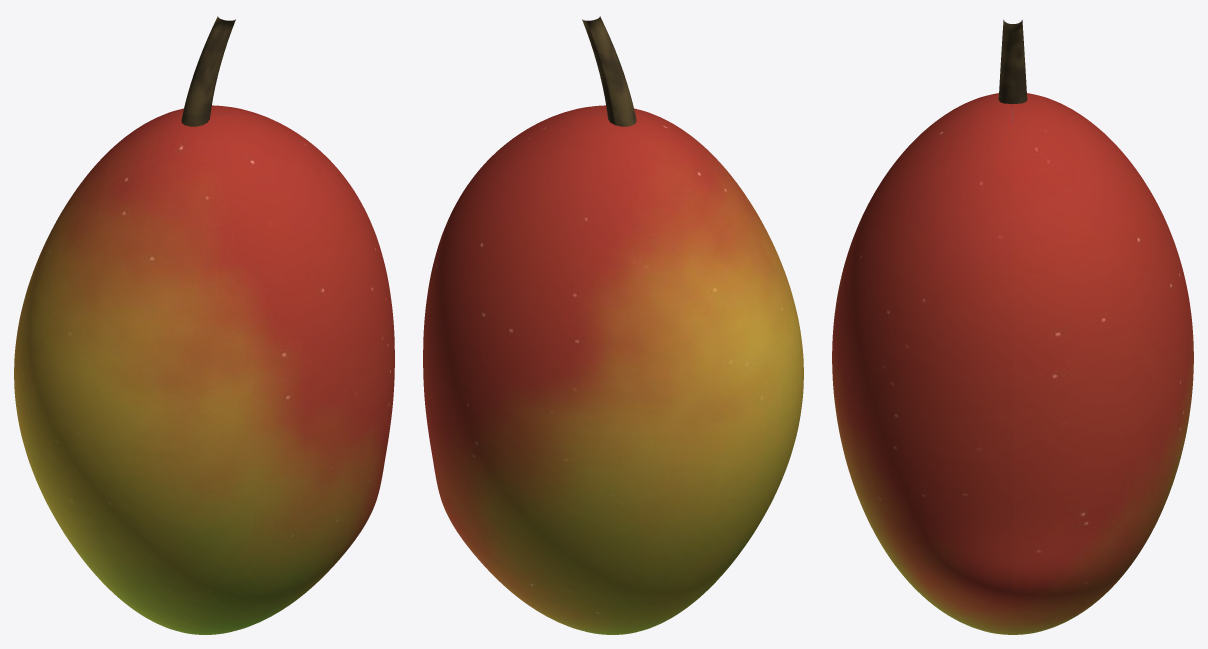
Rendered from mangue-cogshall.glb.
3 views of the same model, side by side, from view 1: azimuth 30°, elevation 25°; view 2: azimuth 150°, elevation 25°; view 3: azimuth 270°, elevation 25° (orthographic).
Parts seen in each view (by area): view 1: entier_peau, moitie_A_peau, moitie_B_peau, entier_extra0; view 2: entier_peau, moitie_B_peau, moitie_A_peau, entier_extra0; view 3: entier_peau, moitie_A_peau, moitie_B_peau, entier_extra0.
Boxes of the visible parts, box(x1,y1,x2,y2) form: entier_peau: box(14, 107, 394, 629); moitie_A_peau: box(37, 114, 394, 634); moitie_B_peau: box(14, 105, 287, 596); entier_extra0: box(181, 16, 235, 126); entier_peau: box(423, 107, 803, 629); moitie_B_peau: box(423, 114, 780, 634); moitie_A_peau: box(528, 105, 803, 594); entier_extra0: box(582, 16, 636, 126); entier_peau: box(832, 93, 1193, 634); moitie_A_peau: box(832, 94, 1011, 633); moitie_B_peau: box(1014, 94, 1193, 633); entier_extra0: box(998, 20, 1027, 103).
Size of the model in its own units: 0.0756 by 0.13 by 0.0692.
3 materials, 3 textured.
